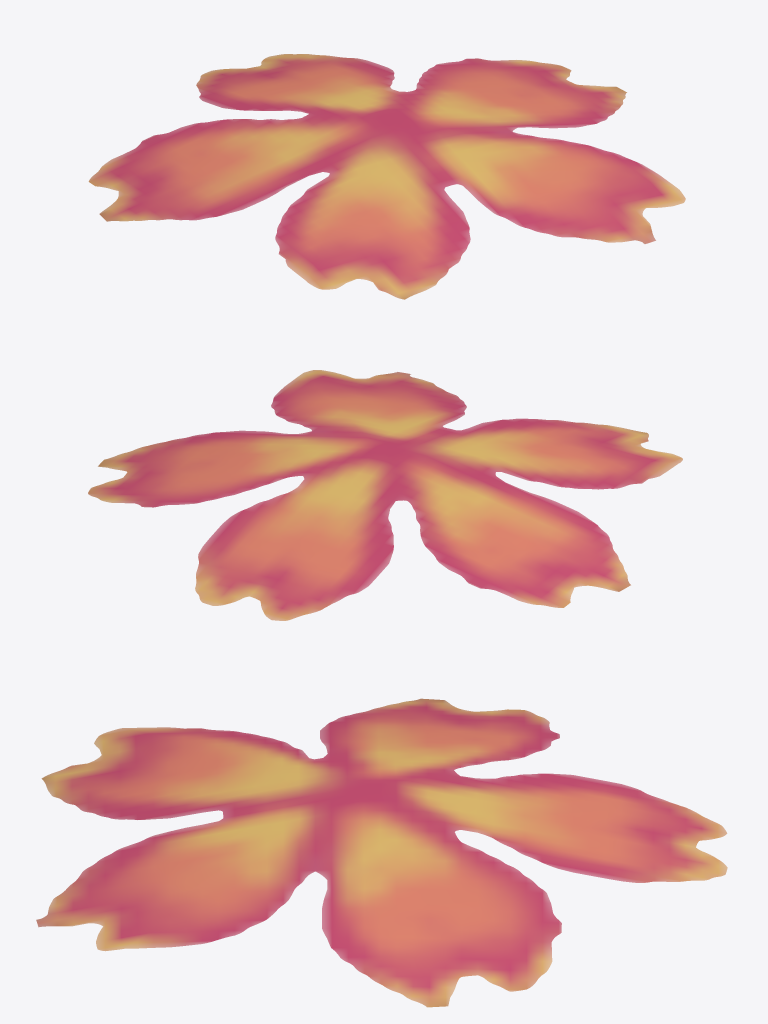
File: M_Petals.fbx
3 renders of one model, top to bottom at view 1: azimuth 30°, elevation 25°; view 2: azimuth 150°, elevation 25°; view 3: azimuth 270°, elevation 25°, orthographic. The views are drawn at different scales.
Parts seen in each view (by area): view 1: M_Petals; view 2: M_Petals; view 3: M_Petals.
Part boxes in pixels (bbox=[...]): M_Petals: bbox=[88, 54, 685, 299]; M_Petals: bbox=[88, 370, 682, 620]; M_Petals: bbox=[36, 698, 727, 1007].
Bounding box in the file's own units: 0.1859 × 0.1859 × 0.0192.
Materials: 1 (1 with a texture image).
